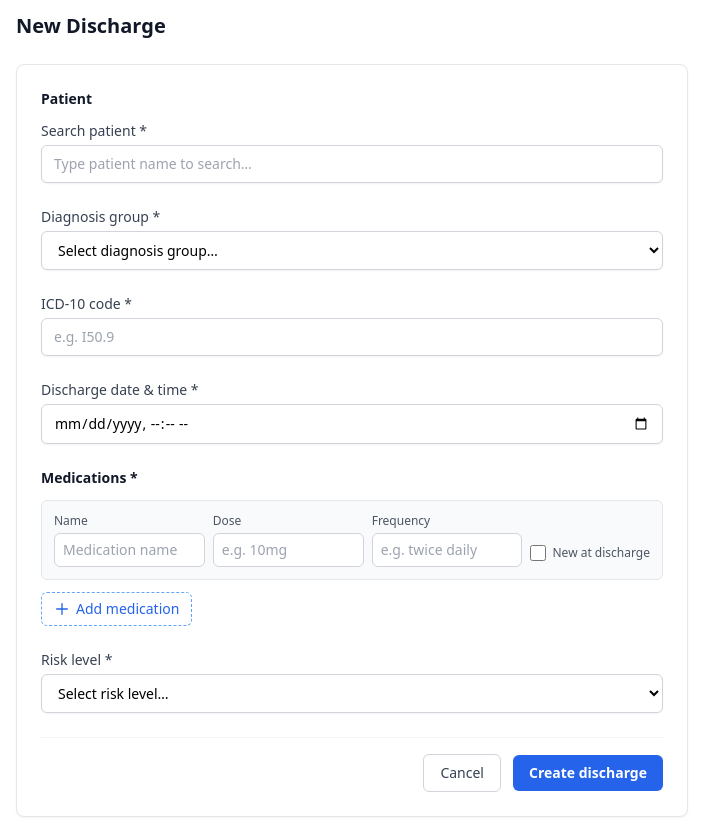
Test: 16.6 – Medication list editor › shows remove buttons for all rows once there are two rows
The image size is (705, 822).
Click the button "Add medication" at [117, 609], box [41,592,192,626]
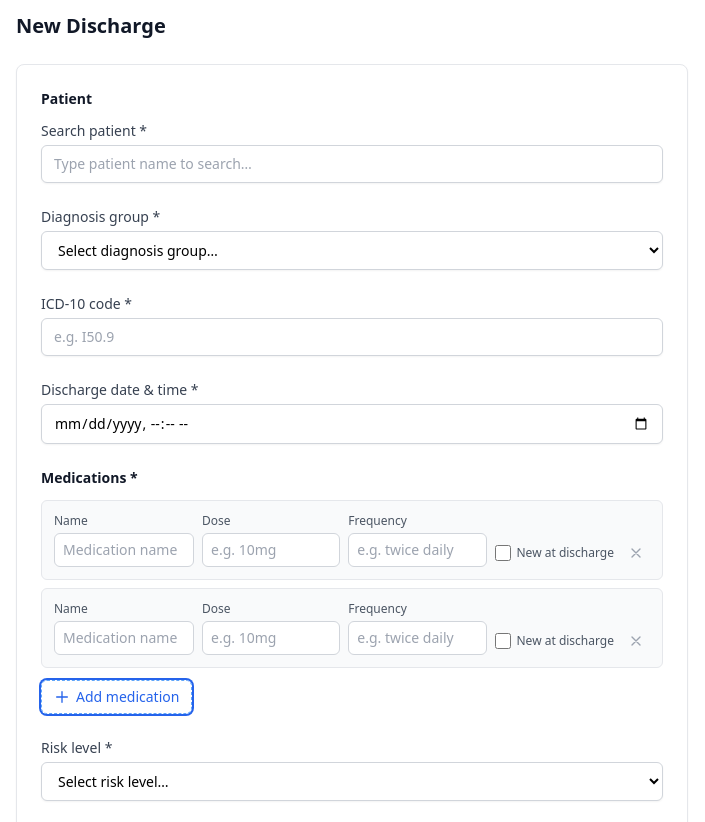
Check: the number of buttons named "remove medication row" is 2, box [622,539,650,567]; [622,627,650,655]
